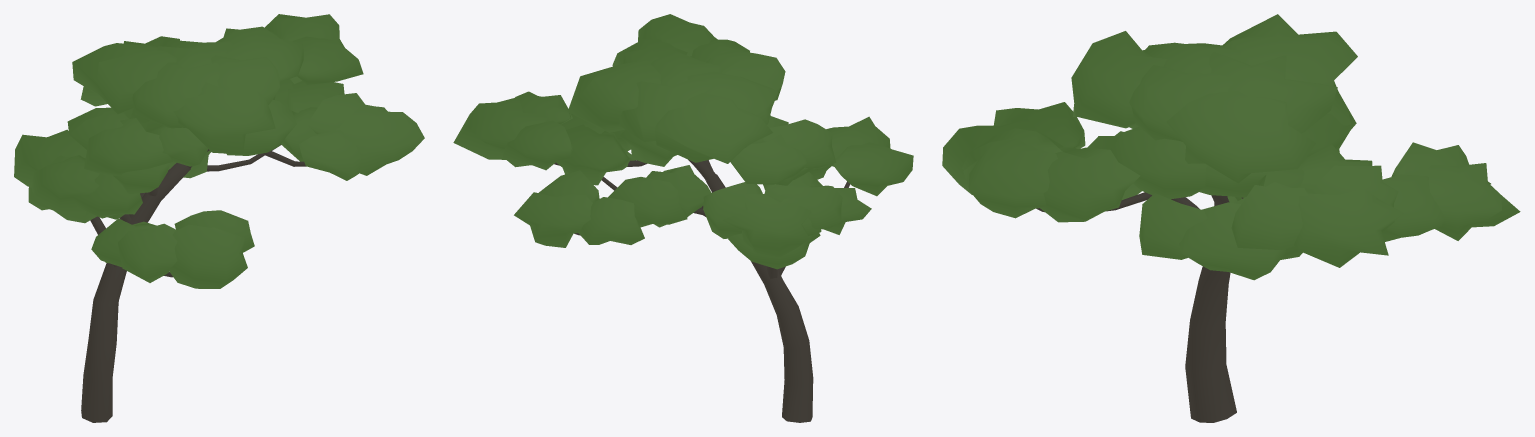
Rendered from Blender_ShorePine_1.glb.
3 views of the same model, side by side, from view 1: azimuth 30°, elevation 25°; view 2: azimuth 150°, elevation 25°; view 3: azimuth 270°, elevation 25° (orthographic). The views are drawn at different scales.
Parts seen in each view (by area): view 1: Blender_ShorePine_1; view 2: Blender_ShorePine_1; view 3: Blender_ShorePine_1.
Boxes of the visible parts, x1,y1,x2,y2 form: Blender_ShorePine_1: (14, 14, 424, 422); Blender_ShorePine_1: (453, 14, 913, 422); Blender_ShorePine_1: (942, 14, 1520, 422).
Bounding box in the file's own units: 8.87 × 8.06 × 10.03.
